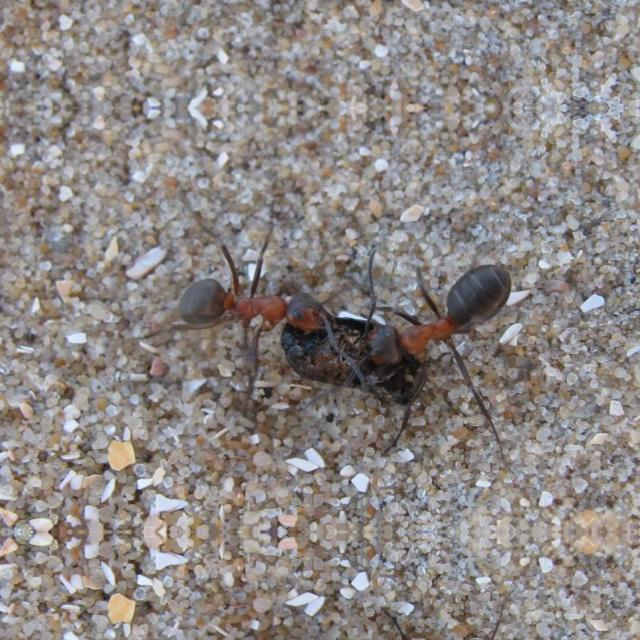Formica: (366, 247, 538, 399), (160, 236, 352, 362)
